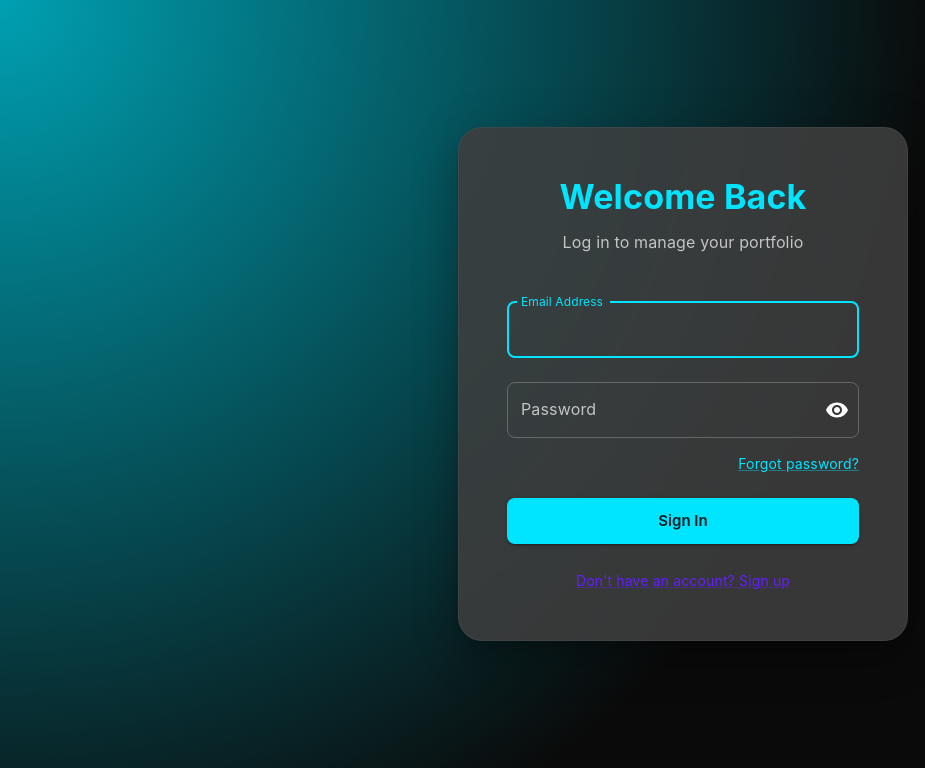
it: LoginForm Component › shows validation errors when submitting empty form
Click the button "Sign In" at (683, 521), box [507,498,859,544]
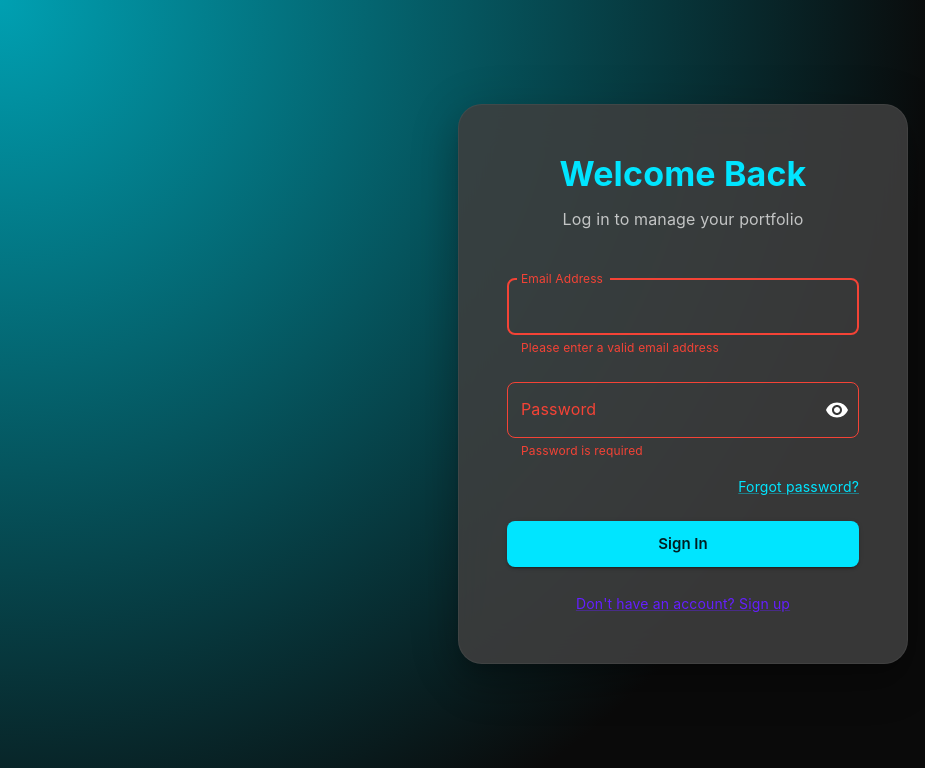
Check: the text "Please enter a valid email address" is shown, box [521,340,719,355]
Check: the text "Password is required" is shown, box [521,443,643,458]
